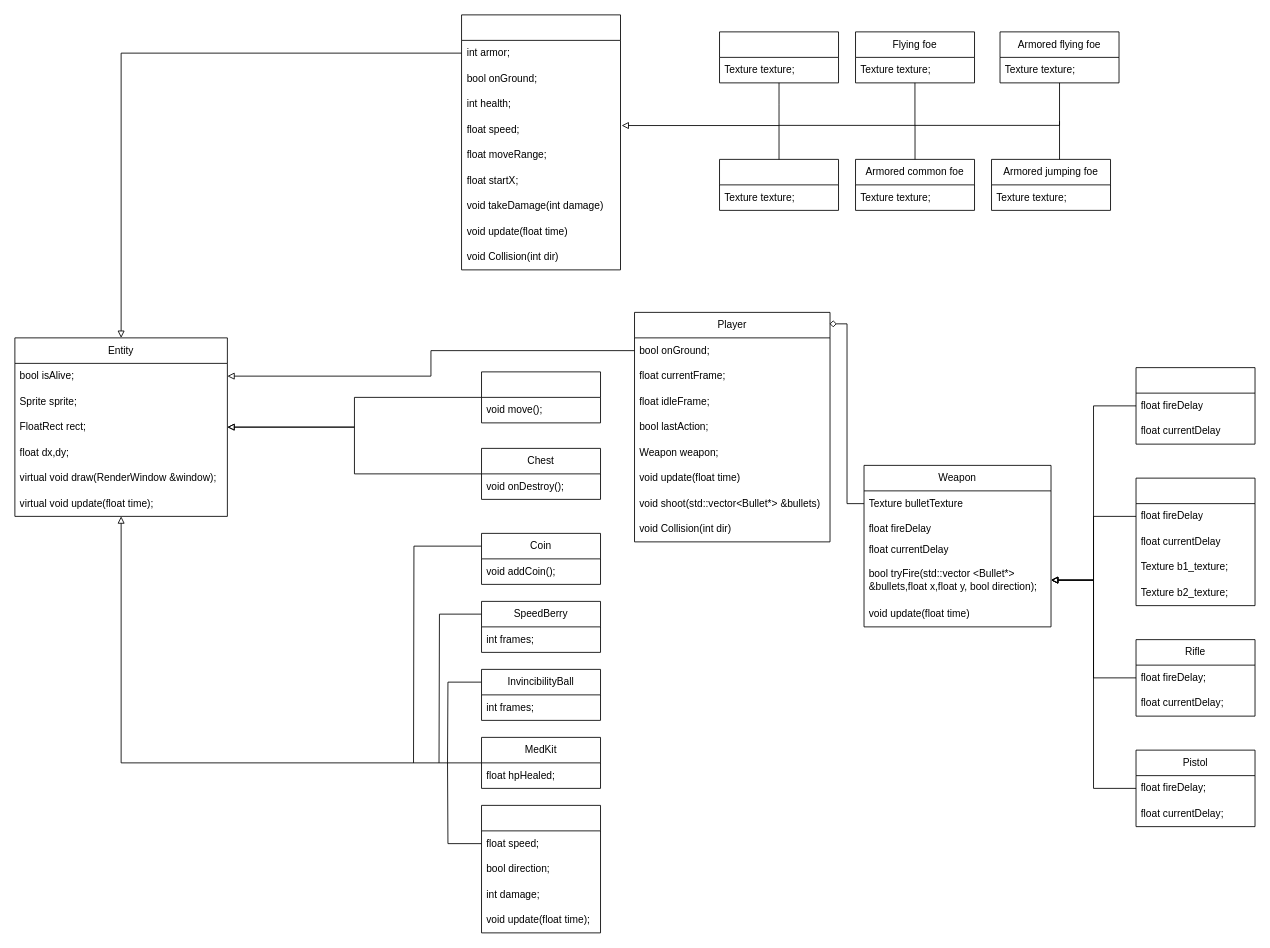
Image size: 1270x948. Some labels were removed from this diagram. Here are the shapes that lost their labels. From the top down, the box of each, then its label:
(719, 31, 839, 83): Common foe
(461, 14, 620, 270): Enemy
(719, 159, 839, 210): Jumping foe
(481, 371, 601, 423): MovingPlatform
(1135, 367, 1255, 444): Minigun
(1135, 477, 1255, 606): Two-bullets weapon
(481, 805, 601, 933): Bullet
